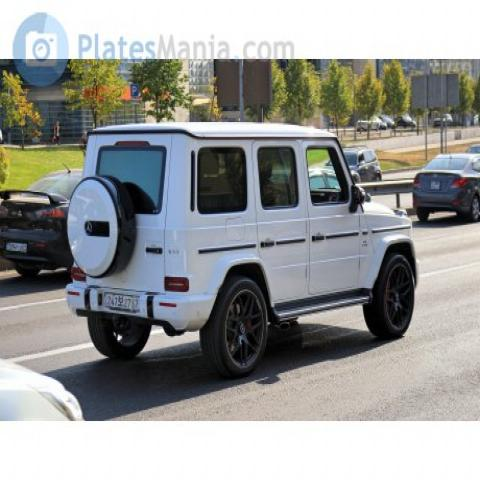LP: (100, 286, 146, 316), (2, 235, 33, 256)
